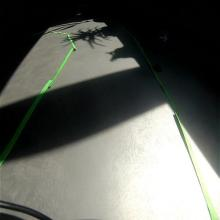right: (158, 30, 170, 46)
